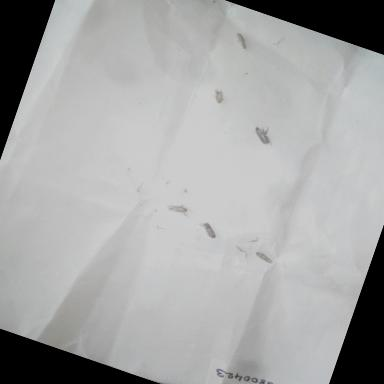pbw: (248, 246, 282, 272), (249, 122, 279, 149), (230, 30, 254, 54), (164, 198, 190, 218), (198, 221, 220, 241), (208, 86, 228, 106)
